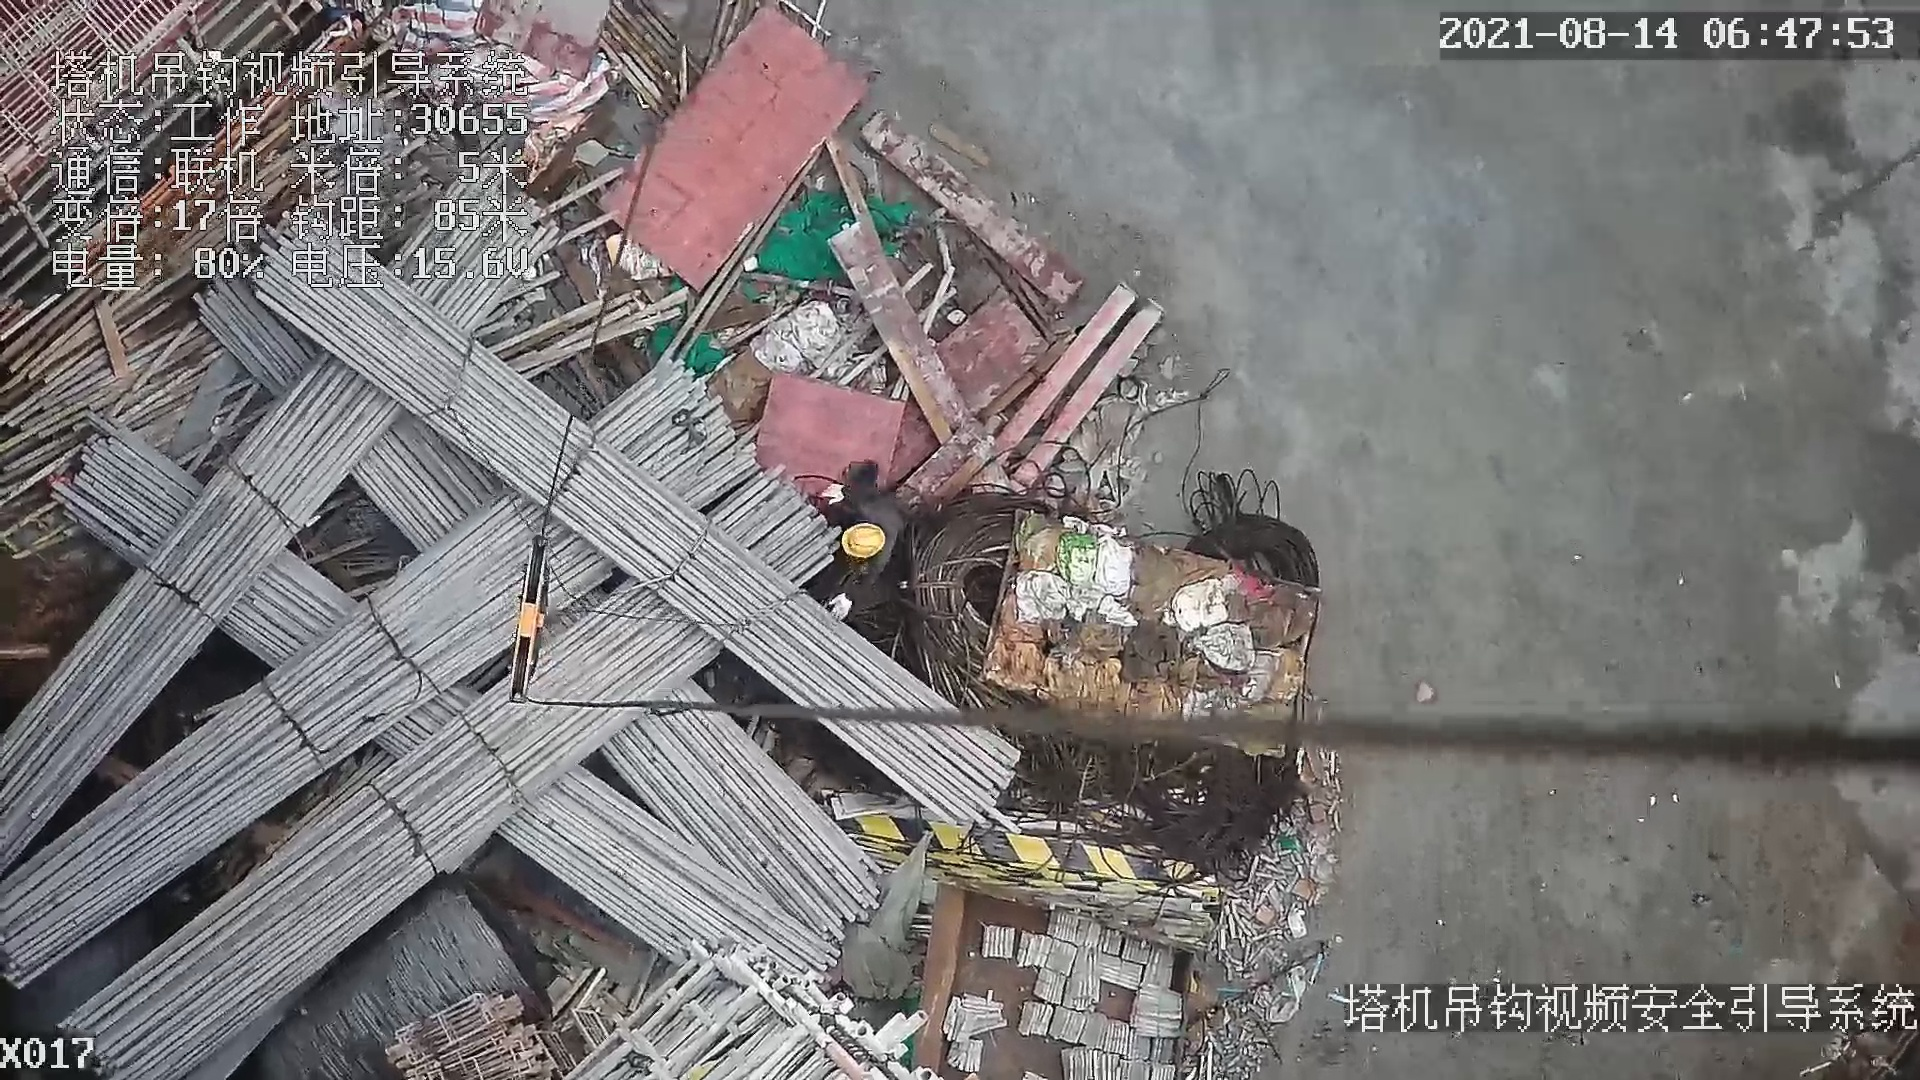board: (600, 11, 864, 283)
helmet: (840, 524, 886, 556)
hook: (504, 532, 559, 705)
person: (812, 447, 908, 626)
